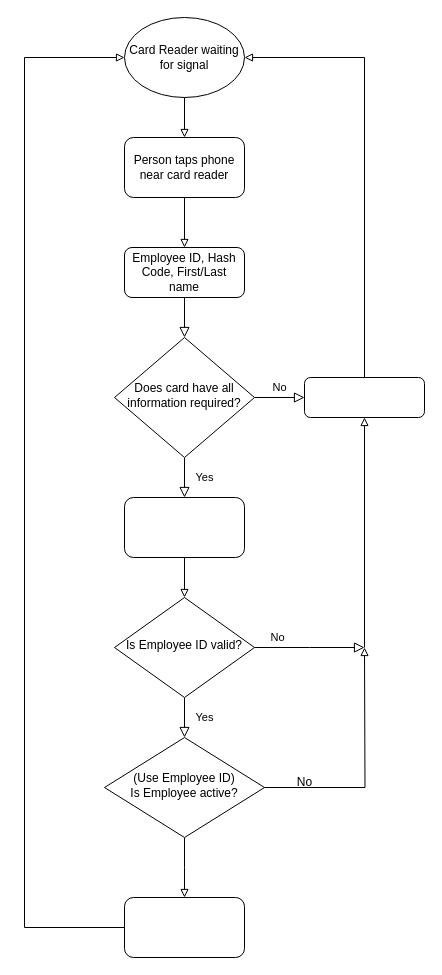
The diagram is 442 pixels wide and 975 high, and some of its shapes have lost their labels. The centre of each missing label's shape, as x and y in pixels:
"Access Denied" belongs at point (364, 397).
"Check Database for matching information" belongs at point (184, 527).
"Grant Access to building (open door)" belongs at point (184, 927).
